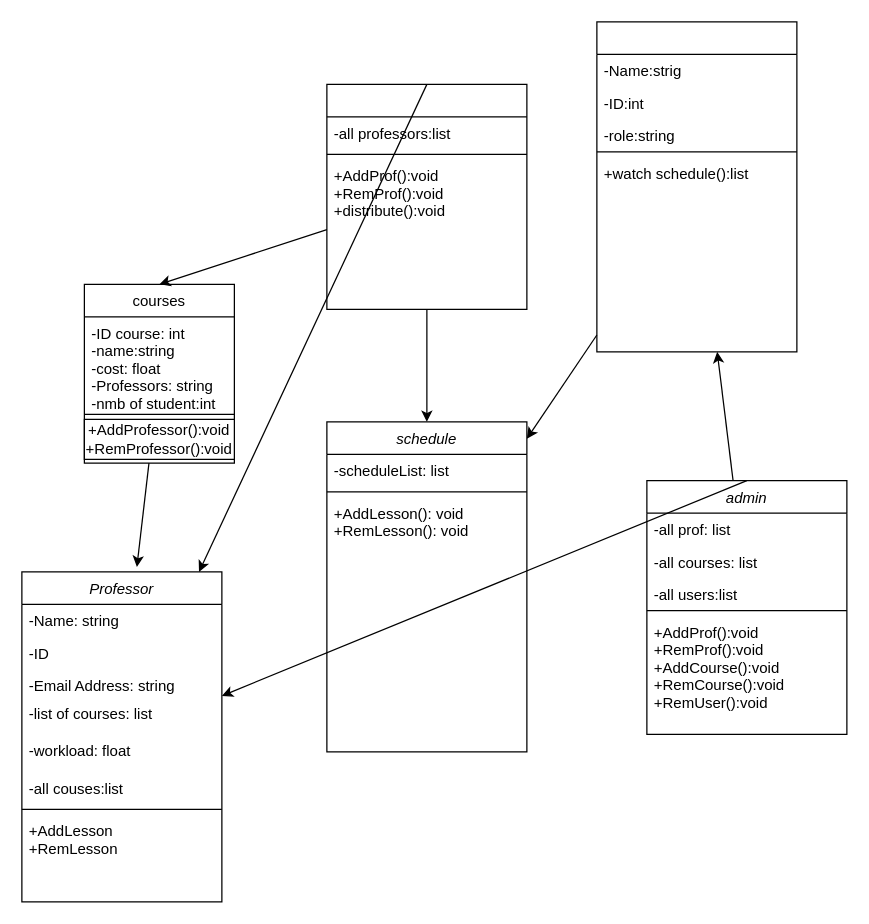
Some shapes in this 869 by 924 pixel diagram are drawn without their labels. Each missing label, with the box of its shape:
system: (326, 83, 527, 309)
user: (596, 21, 797, 352)
